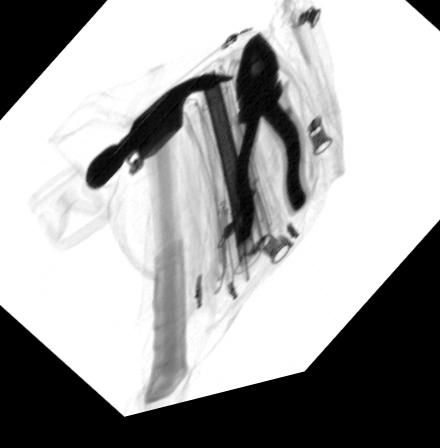Hammer: (84, 85, 233, 410)
Pliers: (226, 43, 312, 260)
